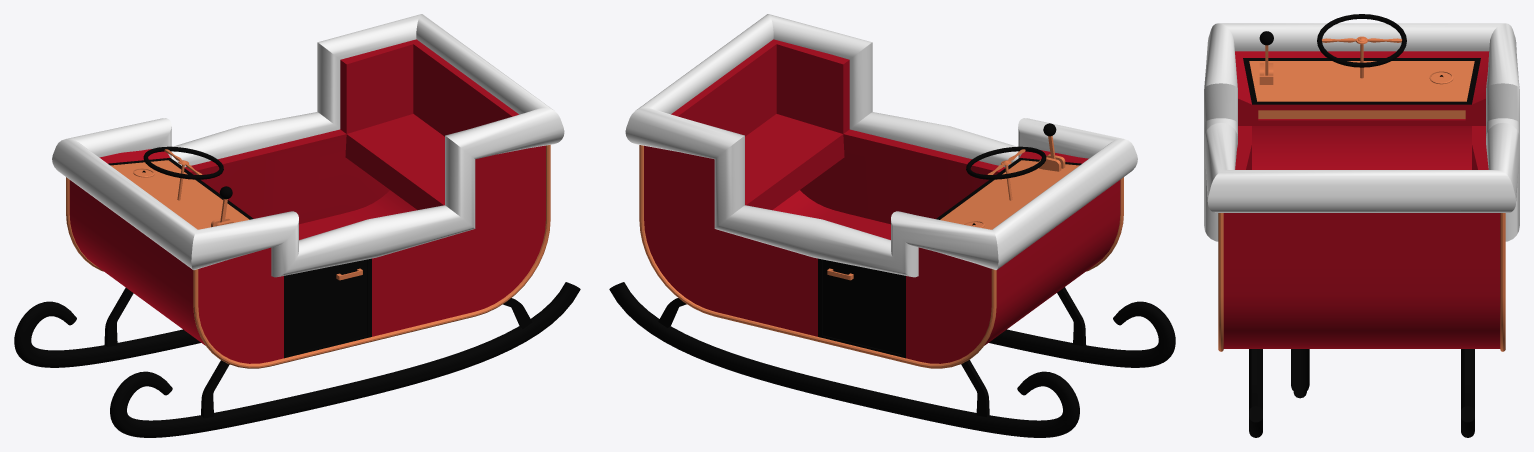
The model's file is sleigh.glb.
3 renders of one model, left to right at view 1: azimuth 30°, elevation 25°; view 2: azimuth 150°, elevation 25°; view 3: azimuth 270°, elevation 25°, orthographic. The views are drawn at different scales.
Parts seen in each view (by area): view 1: sleigh; view 2: sleigh; view 3: sleigh.
Boxes of the visible parts, left/top/right/bottom form: sleigh: left=14, top=14, right=580, bottom=437; sleigh: left=609, top=14, right=1175, bottom=437; sleigh: left=1204, top=14, right=1519, bottom=437.
Size of the model in its own units: 4.25 by 2.25 by 2.24.
